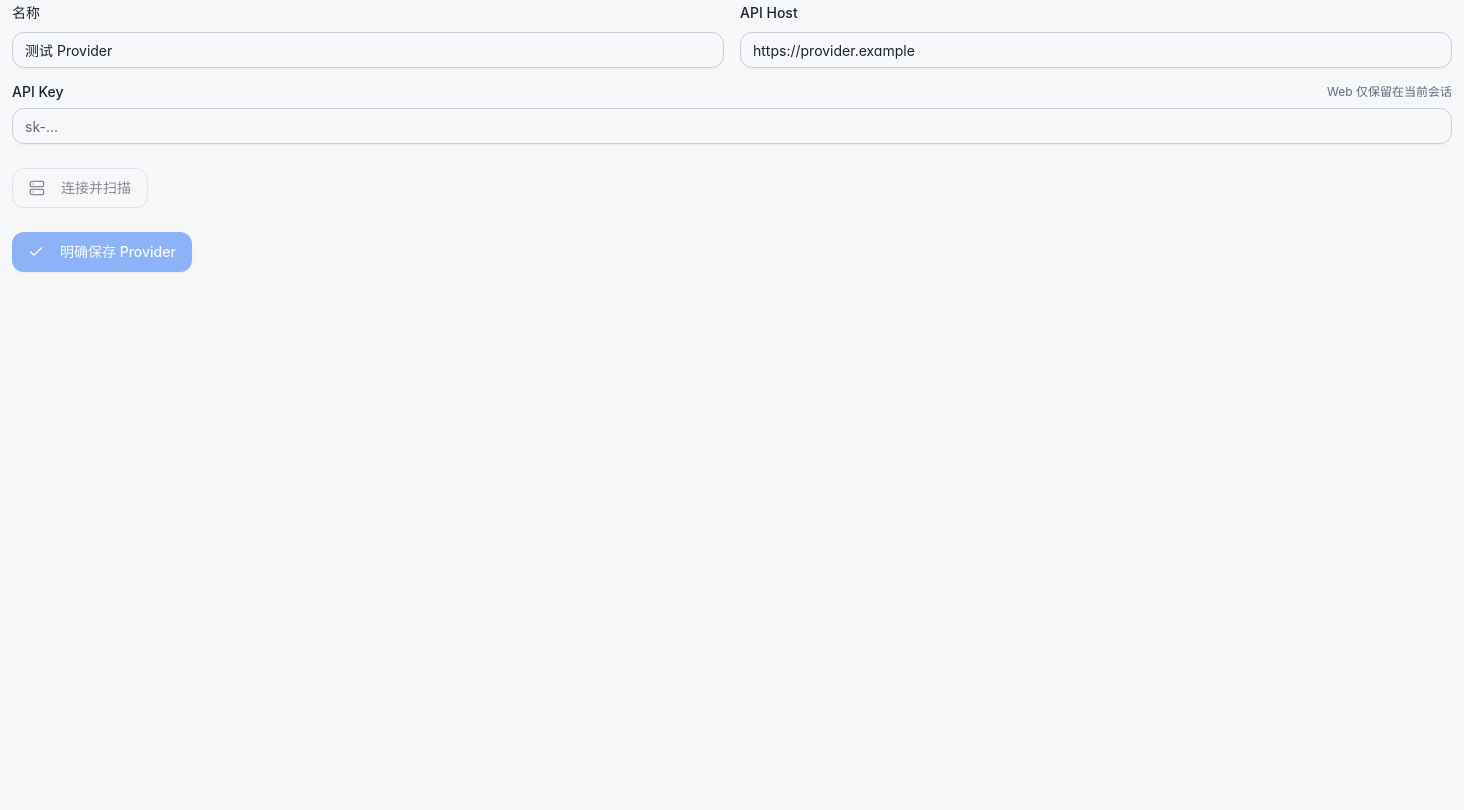
Test: ProviderSetupForm › 扫描成功后显式保存 Provider 和密钥
In the password field labelled "API Key": (732, 126) top-left (12, 108), bottom-right (1452, 144), type "test-key"
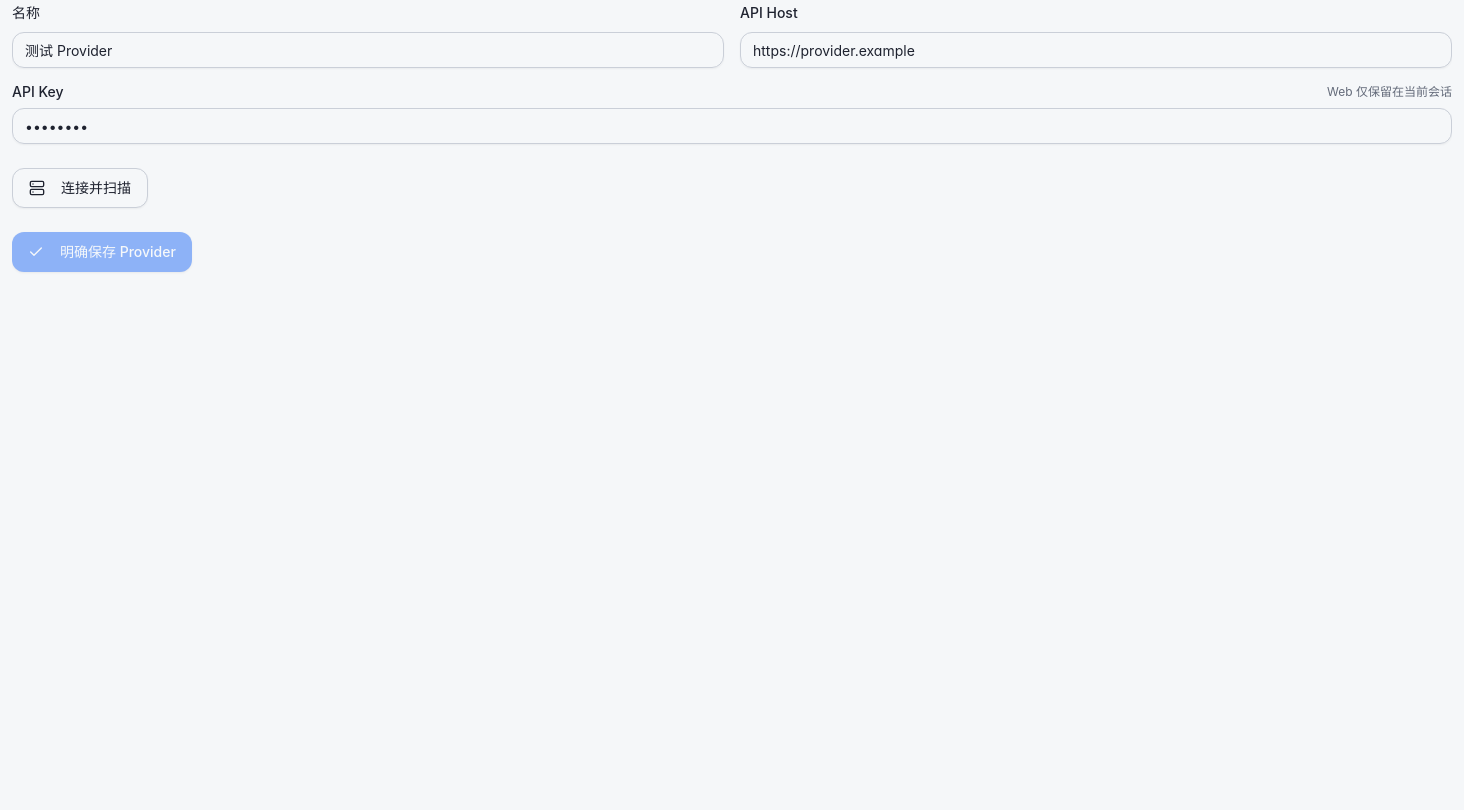
Click the button "连接并扫描": (80, 188) top-left (12, 168), bottom-right (148, 208)
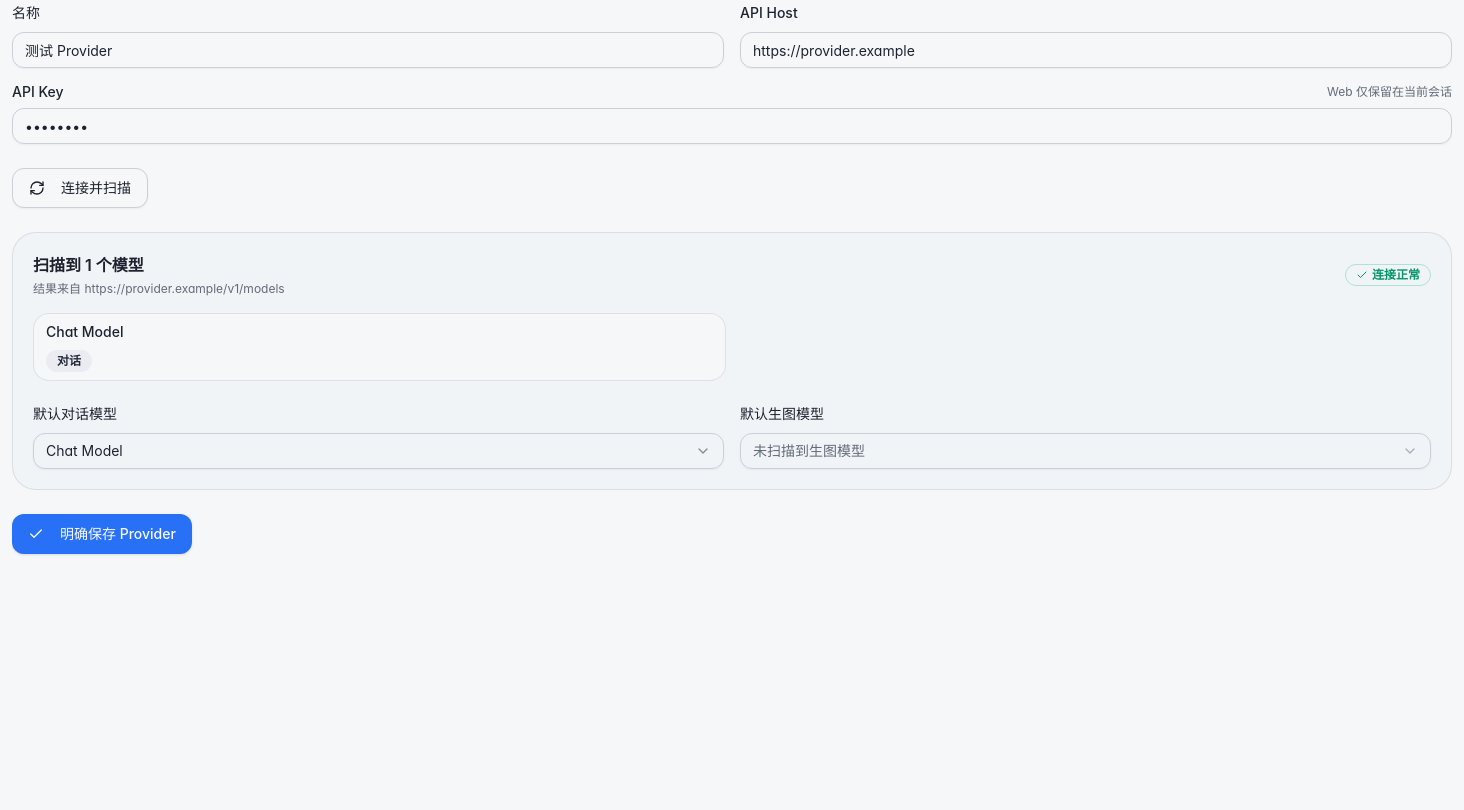
Expected: the heading "扫描到 1 个模型" is shown, top-left (33, 255), bottom-right (144, 275)
Click the button "明确保存 Provider": (102, 534) top-left (12, 514), bottom-right (192, 554)
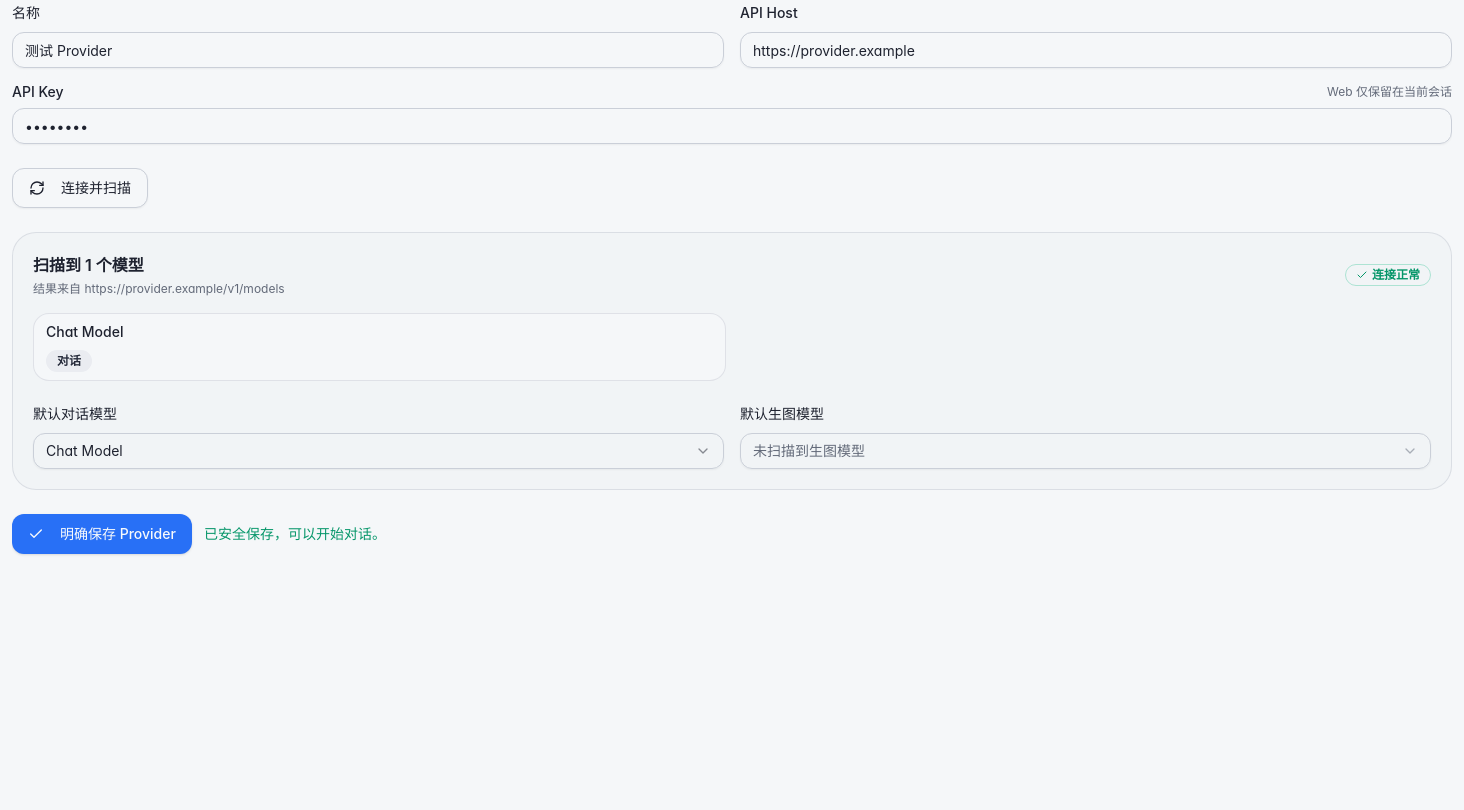
Expected: the text "已安全保存，可以开始对话。" is shown, top-left (204, 524), bottom-right (386, 544)
